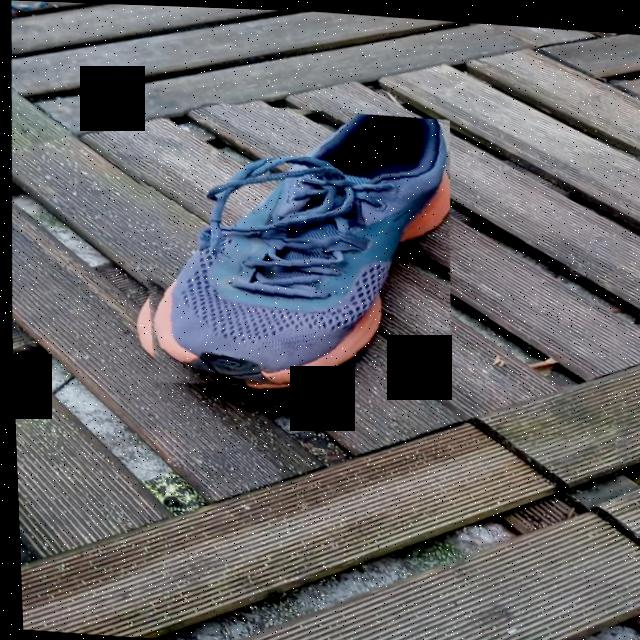shoe: (123, 96, 457, 400)
